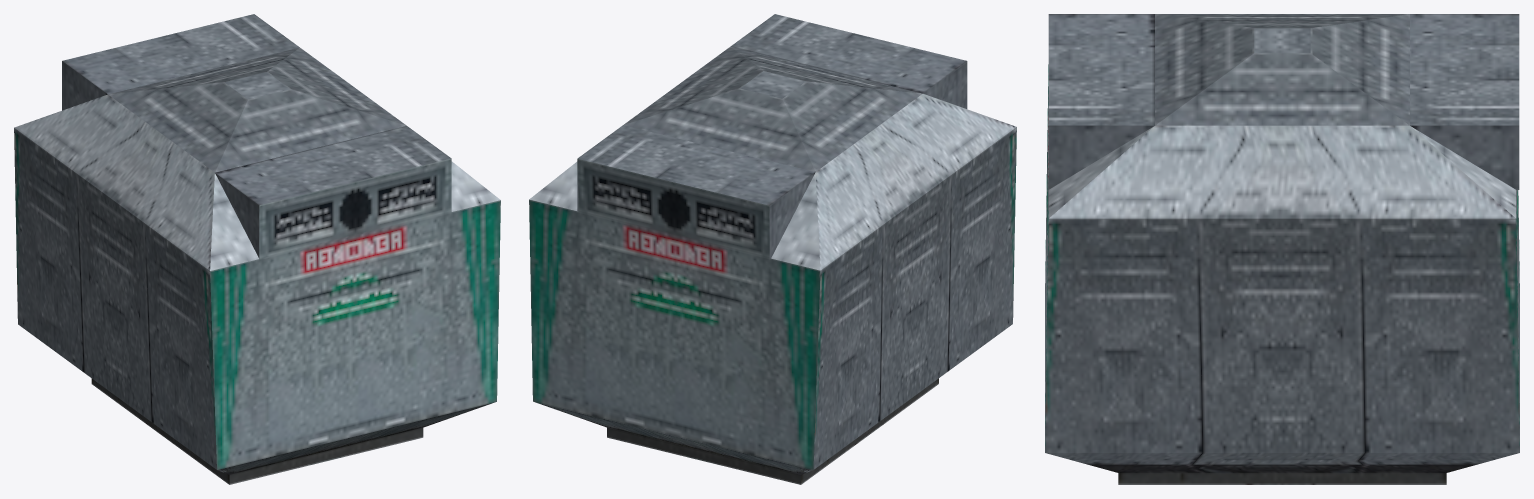
File: TrashContainer02.obj
3 renders of one model, left to right at view 1: azimuth 30°, elevation 25°; view 2: azimuth 150°, elevation 25°; view 3: azimuth 270°, elevation 25°, orthographic. The views are drawn at different scales.
Visible parts, largest first — view 1: TrashContainer02; view 2: TrashContainer02; view 3: TrashContainer02.
Boxes of the visible parts, box(x1,y1,x2,y2) form: TrashContainer02: box(14, 14, 500, 484); TrashContainer02: box(529, 14, 1016, 484); TrashContainer02: box(1045, 14, 1519, 484).
Size of the model in its own units: 2.42 by 2.59 by 2.87.
